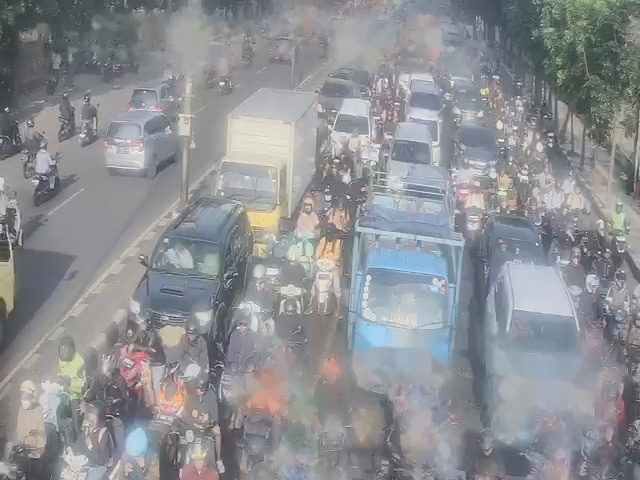Bis: (405, 75, 443, 123)
Mobil: (130, 217, 234, 343), (492, 266, 583, 381), (106, 90, 181, 172), (486, 216, 538, 267), (383, 123, 433, 171), (457, 113, 499, 170)
Motor: (243, 408, 276, 468), (125, 418, 156, 479), (47, 441, 85, 480), (149, 360, 175, 405), (313, 259, 334, 314), (59, 336, 79, 391), (0, 430, 19, 479), (218, 361, 231, 416), (127, 343, 141, 391), (257, 312, 274, 350), (579, 233, 596, 266), (158, 405, 176, 434), (468, 206, 481, 240), (178, 419, 192, 450), (241, 304, 258, 328), (616, 234, 629, 265), (279, 285, 296, 306), (517, 170, 528, 202), (571, 284, 584, 311), (566, 217, 577, 247), (610, 310, 624, 331), (262, 257, 273, 283), (321, 181, 331, 209), (297, 225, 308, 245), (521, 168, 530, 192), (328, 223, 339, 241)
Truk: (357, 171, 460, 329), (219, 89, 314, 231)
